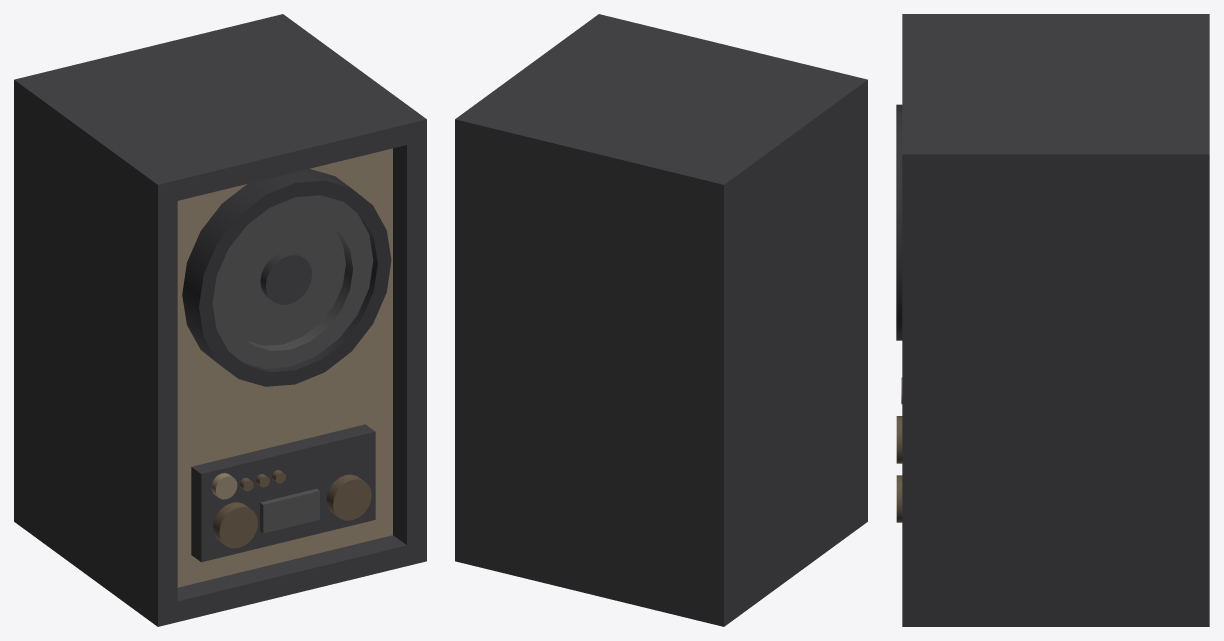
The model's file is colored speaker livingroom.fbx.
The picture shows the model from 3 angles, left to right: view 1: azimuth 30°, elevation 25°; view 2: azimuth 150°, elevation 25°; view 3: azimuth 270°, elevation 25°; orthographic projection. The views are drawn at different scales.
Visible parts, largest first — view 1: pCube1, pCube2, pCylinder2, pCylinder1, pCube3, pCylinder3, pCube4, pCylinder9, pCylinder6; view 2: pCube1; view 3: pCube1, pCylinder1.
Part boxes in pixels (x1=…): pCube1: x1=14, y1=14, x2=426, y2=626; pCube2: x1=177, y1=148, x2=392, y2=587; pCylinder2: x1=212, y1=195, x2=373, y2=368; pCylinder1: x1=182, y1=169, x2=391, y2=386; pCube3: x1=191, y1=424, x2=375, y2=562; pCylinder3: x1=260, y1=251, x2=311, y2=304; pCube4: x1=260, y1=488, x2=319, y2=533; pCylinder9: x1=326, y1=474, x2=371, y2=520; pCylinder6: x1=213, y1=502, x2=257, y2=548; pCube1: x1=455, y1=14, x2=867, y2=626; pCube1: x1=902, y1=14, x2=1209, y2=626; pCylinder1: x1=896, y1=104, x2=902, y2=340.
Size of the model in its own units: 0.2704 by 0.4246 by 0.2553.
